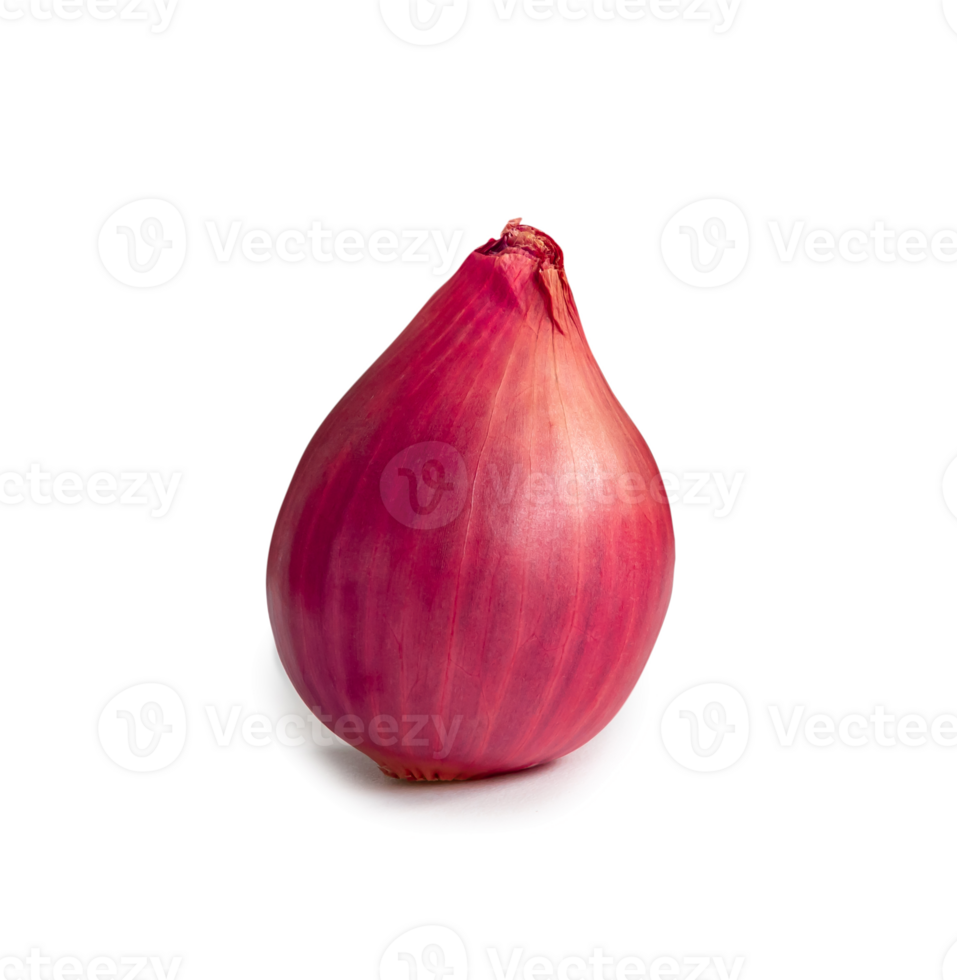onion: (236, 193, 713, 834)
